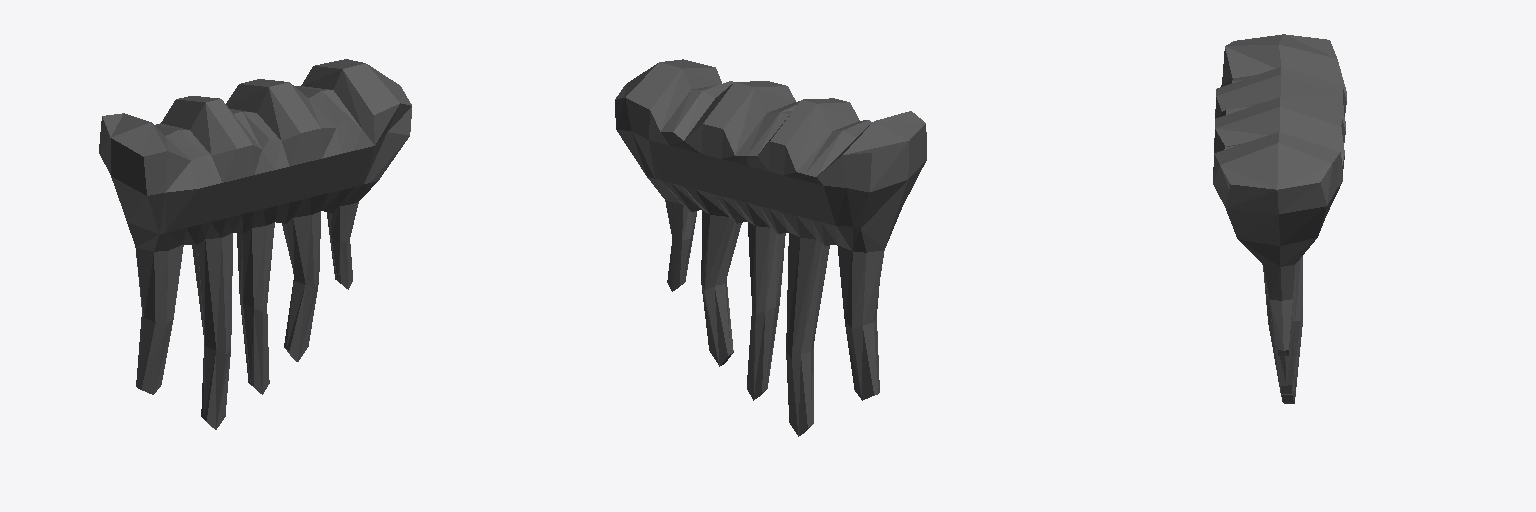
Rendered from plantWeird.obj.
3 views of the same model, side by side, from view 1: azimuth 30°, elevation 25°; view 2: azimuth 150°, elevation 25°; view 3: azimuth 270°, elevation 25° (orthographic).
Visible parts, largest first — view 1: plantWeird; view 2: plantWeird; view 3: plantWeird.
Boxes of the visible parts, box(x1,y1,x2,y2) form: plantWeird: box(99, 59, 411, 429); plantWeird: box(615, 59, 926, 436); plantWeird: box(1213, 34, 1346, 403).
Bounding box in the file's own units: 14.39 × 15.98 × 5.83.